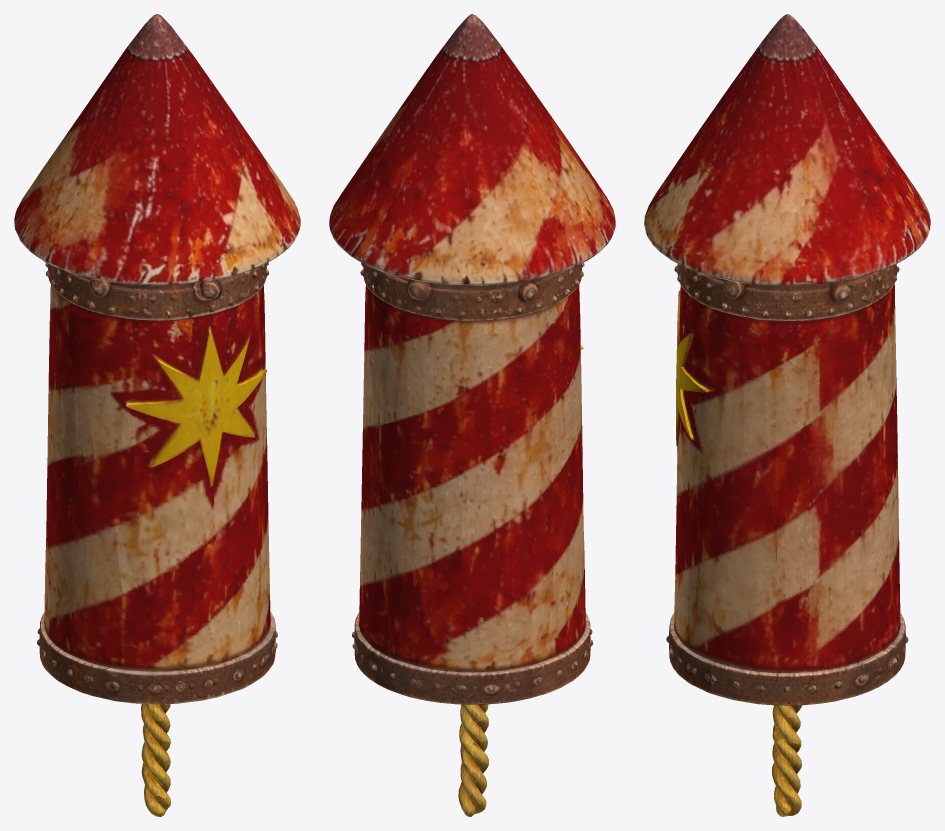
File: firework.glb
3 views of the same model, side by side, from view 1: azimuth 30°, elevation 25°; view 2: azimuth 150°, elevation 25°; view 3: azimuth 270°, elevation 25° (orthographic).
Visible parts, largest first — view 1: Mesh_0; view 2: Mesh_0; view 3: Mesh_0.
Part boxes in pixels (x1,y1,x2,y2): Mesh_0: [14, 14, 300, 816]; Mesh_0: [329, 14, 615, 816]; Mesh_0: [644, 14, 930, 816].
Size of the model in its own units: 0.6169 by 1.9 by 0.6166.
Materials: 1 (1 with a texture image).
